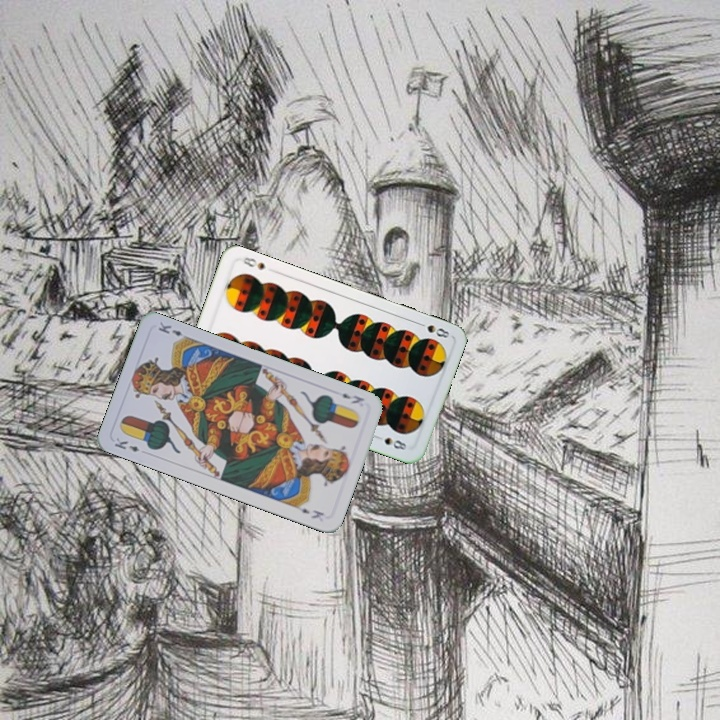EK: (110, 433, 142, 454), (338, 389, 367, 406)
S8: (413, 318, 452, 341)
